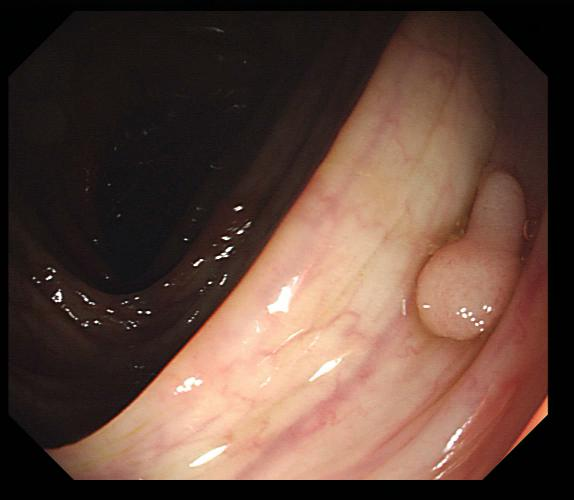polyp: (415, 170, 528, 342)
